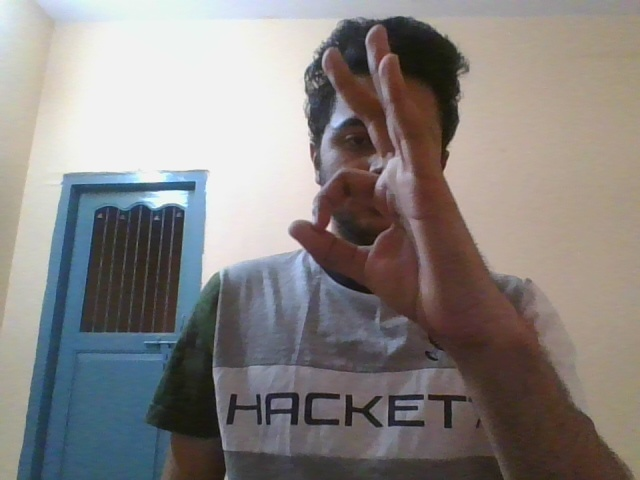Ok: (287, 22, 510, 336)
